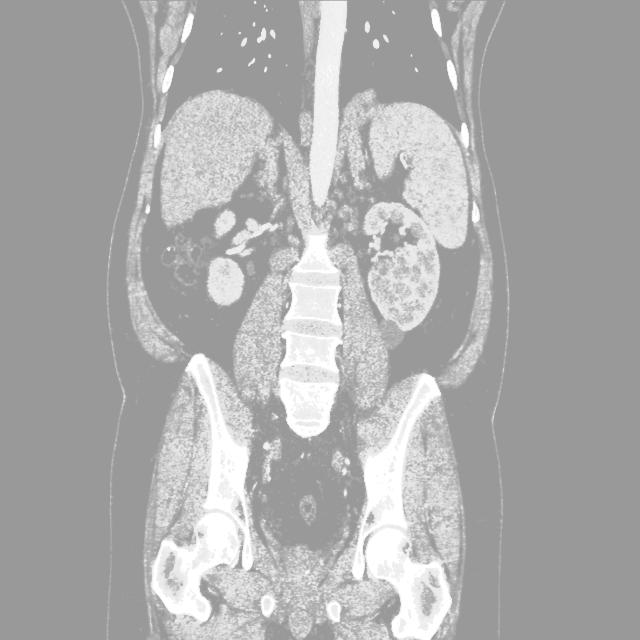TUMOR: (130, 113, 544, 434)
